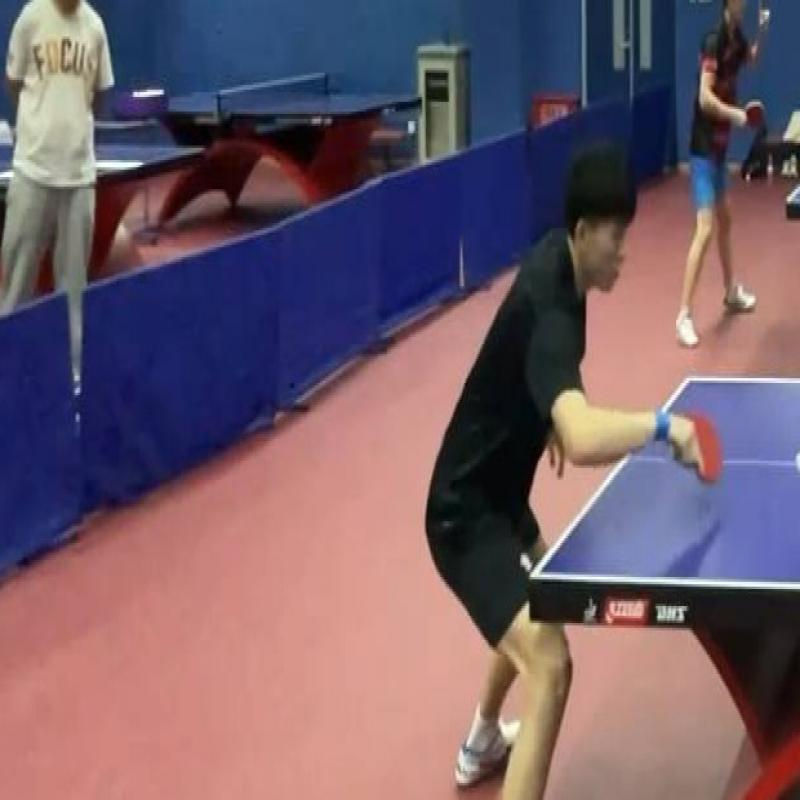bats: (676, 407, 729, 502)
